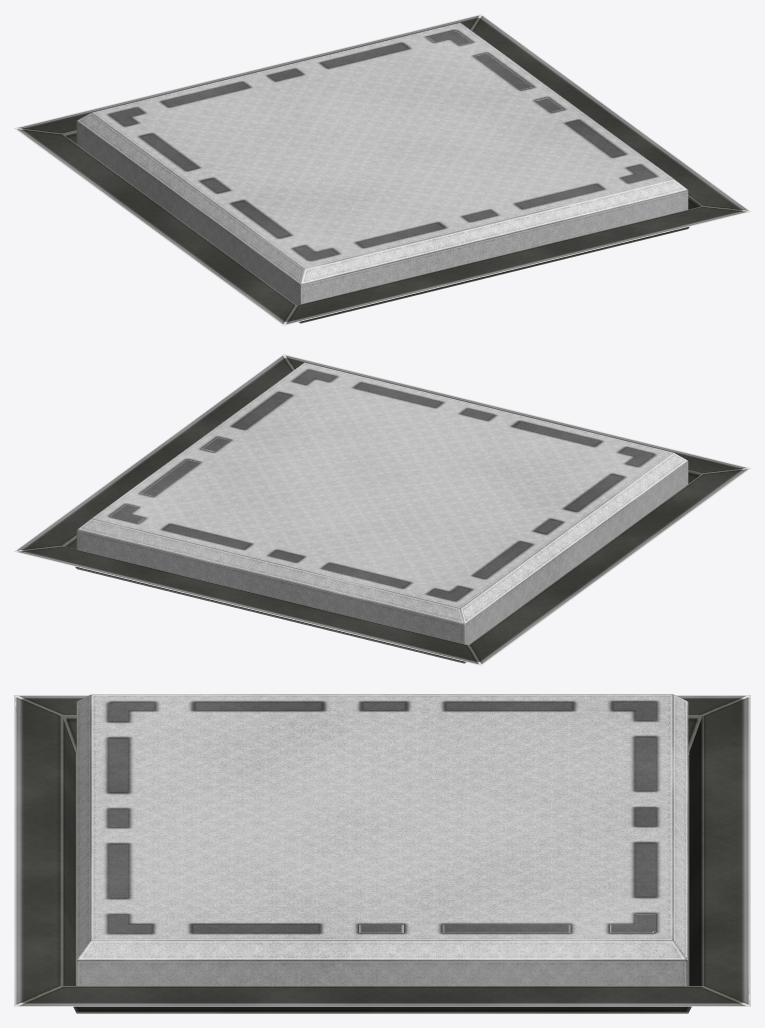
Rendered from Button.FBX.
The picture shows the model from 3 angles, top to bottom: view 1: azimuth 30°, elevation 25°; view 2: azimuth 150°, elevation 25°; view 3: azimuth 270°, elevation 25°; orthographic projection. The views are drawn at different scales.
Visible parts, largest first — view 1: button_move, button; view 2: button_move, button; view 3: button_move, button.
Part boxes in pixels (x1,y1,x2,y2): button_move: (76,22,688,304); button: (14,14,750,325); button_move: (76,362,688,644); button: (14,354,750,665); button_move: (76,694,688,985); button: (14,695,750,1013).
Size of the model in its own units: 100 by 10 by 100.
Materials: 1 (1 with a texture image).
